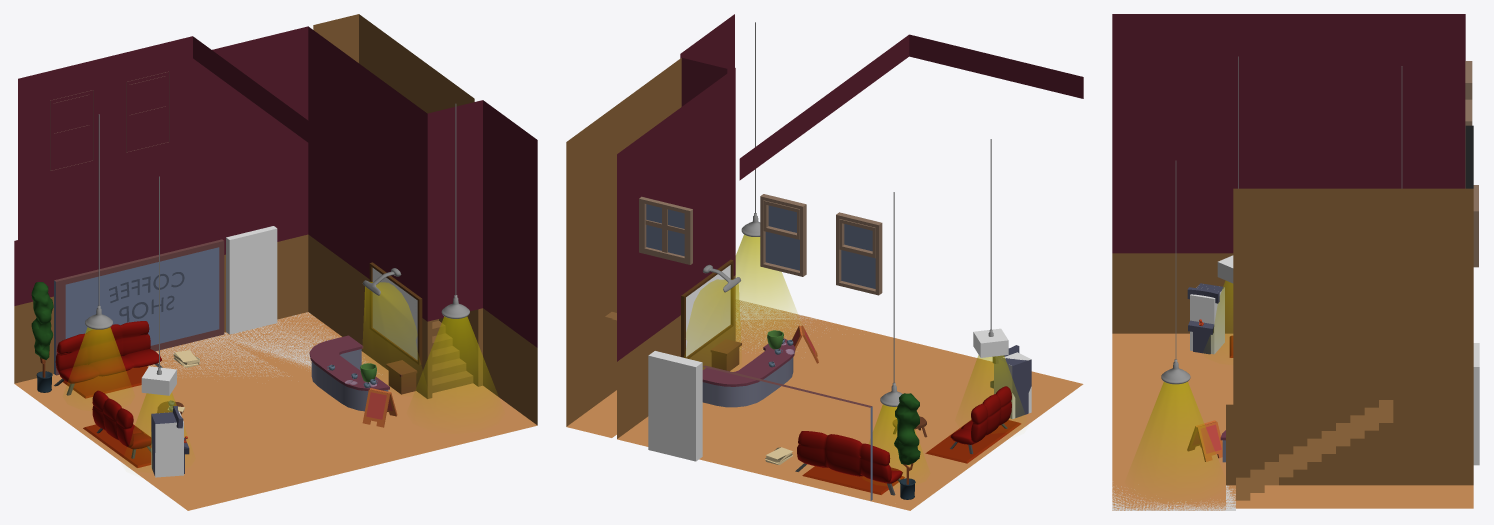
The model's file is coffee-shop.glb.
3 renders of one model, left to right at view 1: azimuth 30°, elevation 25°; view 2: azimuth 150°, elevation 25°; view 3: azimuth 270°, elevation 25°, orthographic. The views are drawn at different scales.
Parts seen in each view (by area): view 1: coffee-shop, coffee-shop-windows, light-cone.002, goto-room-town, sofa2, light-cone.003, ground-clickable, coffee-board, light-cone.001, bar, stairs, sofa (+12 smaller); view 2: coffee-shop, goto-room-town, light-cone.002, light-cone.003, bar, coffee-board, coffee-shop-window-1, coffee-shop-window-2, sofa2, coffee-shop-window-3, light-cone, sofa (+11 smaller); view 3: coffee-shop, light-cone.002, stairs, clickable, light-cone, ground-clickable, astro-box, sign, goto-room-town, hang-light.002, coffee-shop-window-3.
Part boxes in pixels (x1,y1,x2,y2): coffee-shop: (14, 14, 537, 510); coffee-shop-windows: (54, 239, 224, 375); light-cone.002: (413, 316, 497, 413); goto-room-town: (226, 226, 277, 334); sofa2: (54, 321, 162, 395); light-cone.003: (363, 281, 421, 377); ground-clickable: (149, 312, 382, 377); coffee-board: (369, 262, 422, 364); light-cone.001: (66, 327, 131, 401); bar: (309, 335, 389, 411); stairs: (432, 319, 473, 393); sofa: (92, 390, 151, 458); coffee-shop: (566, 14, 1083, 510); goto-room-town: (648, 351, 702, 461); light-cone.002: (735, 234, 797, 331); light-cone.003: (684, 279, 740, 369); bar: (702, 338, 795, 407); coffee-board: (681, 259, 733, 358); coffee-shop-window-1: (760, 194, 806, 276); coffee-shop-window-2: (836, 212, 882, 295); sofa2: (795, 431, 902, 495); coffee-shop-window-3: (639, 196, 692, 264); light-cone: (960, 355, 1021, 417); sofa: (950, 386, 1011, 454); coffee-shop: (1112, 14, 1473, 510); light-cone.002: (1132, 381, 1219, 482); stairs: (1236, 400, 1393, 500); clickable: (1190, 287, 1224, 354); light-cone: (1209, 280, 1233, 349); ground-clickable: (1112, 485, 1235, 510); astro-box: (1187, 283, 1224, 354); sign: (1187, 420, 1222, 461); goto-room-town: (1473, 343, 1479, 465); hang-light.002: (1161, 161, 1190, 384); coffee-shop-window-3: (1473, 185, 1478, 267).
Bounding box in the file's own units: 23.56 × 20.47 × 20.53.
Materials: 33 (1 with a texture image).
